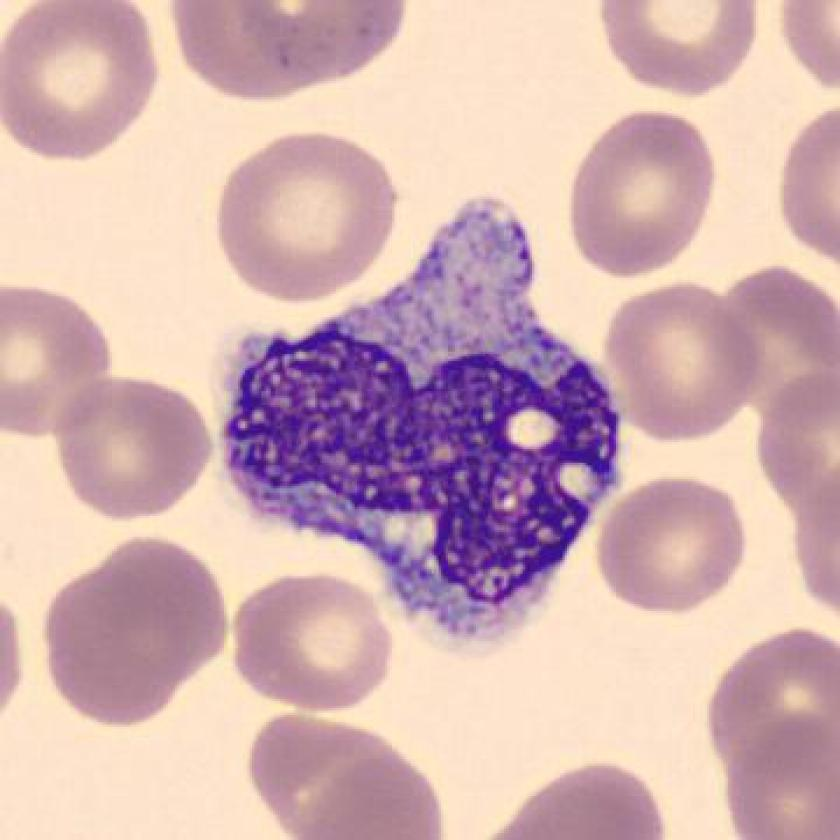monocyte: (193, 179, 641, 670)
